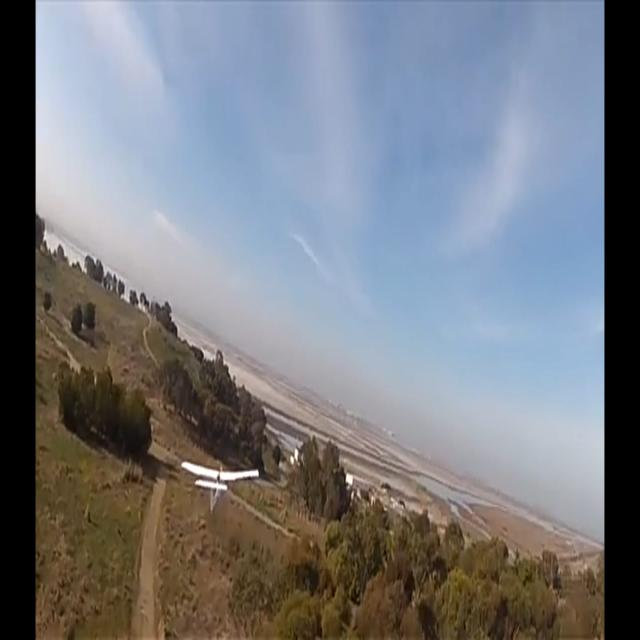iha: (212, 458, 227, 514)
